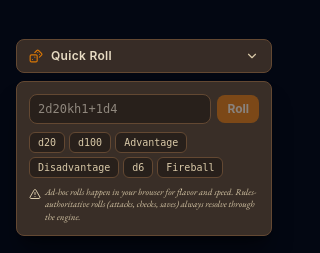
Test: DiceRollerPanel › shows a live validation hint and disables Roll for bad grammar
This screenshot has width=320, height=253.
Type "2d6kh3" into the field named "Custom dice expression". click: point(120, 109)
box: [29,94,211,124]
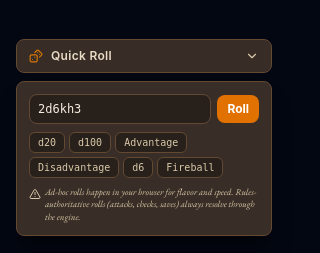
Expected: the button "Roll" is enabled, [217,95,259,123]
Replace the text in the field named "Custom dice expression" with "d99999". click: point(120, 109)
box: [29,94,211,124]
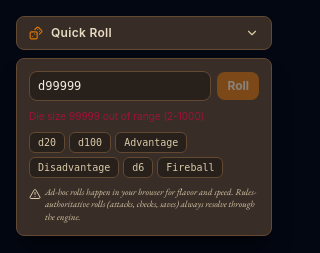
Expected: the message with test id "dice-roller-hint" shows "out of range", [29,110,204,122]
Expected: the button "Roll" is disabled, [217,72,259,100]
Replace the text in the field named "Custom dice expression" with "2d6+1". click: point(120, 86)
box: [29,71,211,101]
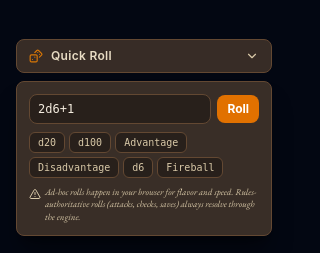
Expected: the message with test id "dice-roller-hint" is gone
Expected: the button "Roll" is enabled, [217,95,259,123]
